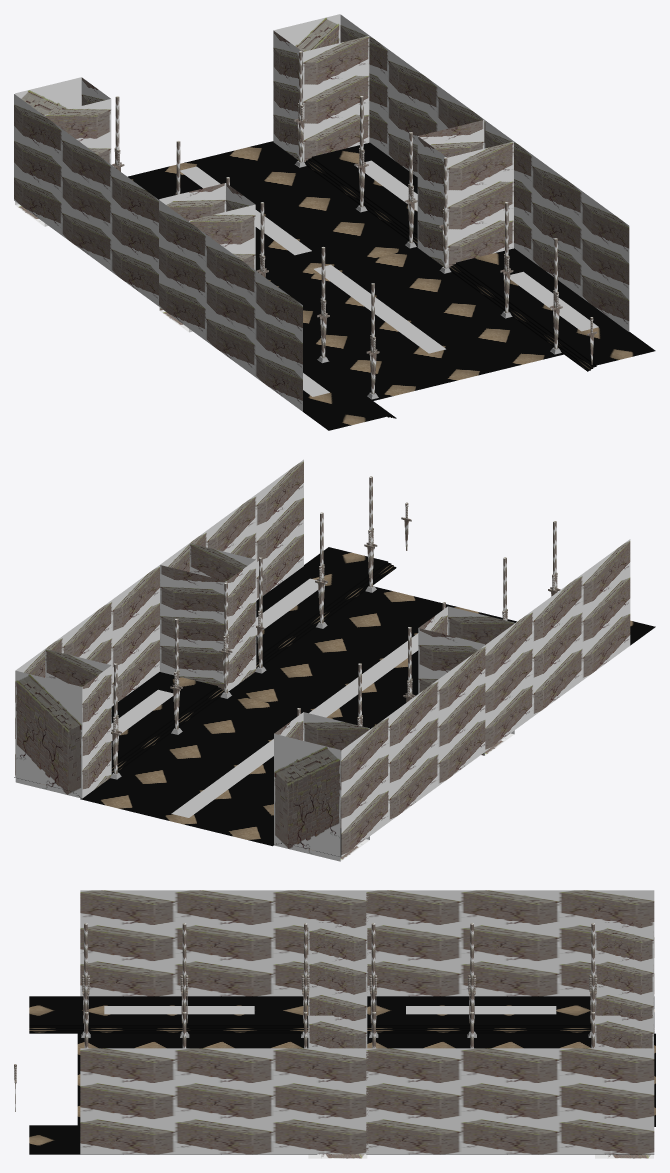
Rendered from Set 1.fbx.
3 renders of one model, top to bottom at view 1: azimuth 30°, elevation 25°; view 2: azimuth 150°, elevation 25°; view 3: azimuth 270°, elevation 25°, orthographic.
Visible parts, largest first — view 1: pPlane12 (×3), polySurface10, polySurface11, pPlane1 (×3), polySurface13, pPlane10, pPlane9, polySurface5, polySurface12, polySurface3, pPlane5, pPlane11 (+5 smaller); view 2: pPlane1 (×3), polySurface11, polySurface10, pPlane12 (×3), pPlane9, pPlane10, pPlane5, polySurface12, polySurface13, polySurface5, polySurface3, pPlane11 (+4 smaller); view 3: polySurface12, polySurface13, polySurface10, polySurface11, polySurface4, polySurface9, pPlane11, pPlane5, pPlane12, pPlane1, pPlane10, pPlane9 (+4 smaller).
Part boxes in pixels (x1,y1,x2,y2): pPlane12 (×3): [273, 248, 563, 400]; polySurface10: [14, 94, 158, 306]; polySurface11: [159, 200, 302, 411]; pPlane1 (×3): [128, 141, 417, 283]; polySurface13: [485, 120, 629, 331]; pPlane10: [417, 120, 513, 267]; pPlane9: [273, 14, 369, 161]; polySurface5: [449, 248, 655, 371]; polySurface12: [340, 14, 485, 176]; polySurface3: [304, 142, 417, 246]; pPlane5: [15, 77, 111, 226]; pPlane11: [159, 183, 255, 332]; pPlane1 (×3): [80, 694, 371, 846]; polySurface11: [485, 539, 630, 751]; polySurface10: [341, 645, 485, 856]; pPlane12 (×3): [228, 587, 516, 727]; pPlane9: [15, 649, 111, 798]; pPlane10: [160, 543, 256, 691]; pPlane5: [274, 712, 369, 861]; polySurface12: [15, 565, 159, 777]; polySurface13: [159, 459, 303, 671]; polySurface5: [256, 547, 396, 668]; polySurface3: [14, 672, 224, 797]; pPlane11: [418, 606, 514, 755]; polySurface12: [366, 1048, 654, 1154]; polySurface13: [80, 1048, 368, 1154]; polySurface10: [366, 890, 654, 996]; polySurface11: [80, 890, 368, 996]; polySurface4: [29, 996, 308, 1033]; polySurface9: [367, 996, 654, 1033]; pPlane11: [308, 922, 367, 1015]; pPlane5: [595, 922, 653, 1015]; pPlane12: [77, 1033, 308, 1064]; pPlane1: [367, 1033, 655, 1064]; pPlane10: [308, 1015, 367, 1158]; pPlane9: [595, 1015, 653, 1158].
Size of the model in its own units: 209 by 69.06 by 358.
